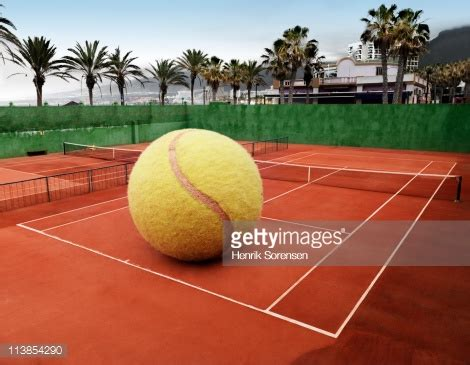tennis_ball: (126, 127, 265, 262)
